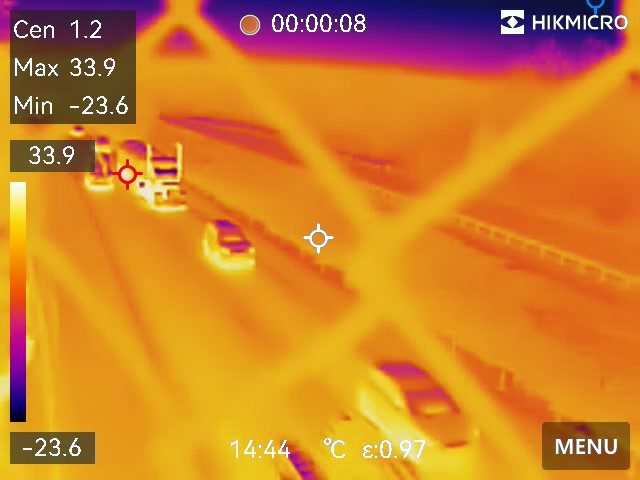heavyTruck: (118, 133, 191, 217), (71, 130, 119, 195)
largeCar: (358, 354, 479, 456), (202, 218, 256, 276)
